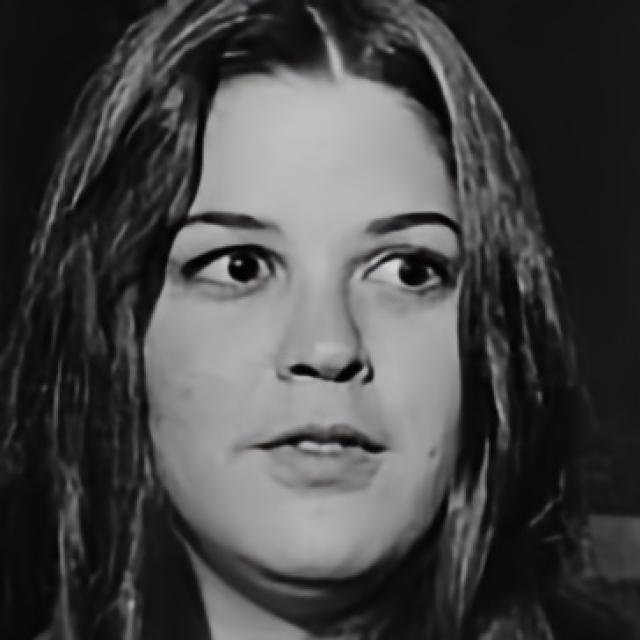surprise: (144, 64, 468, 586)
